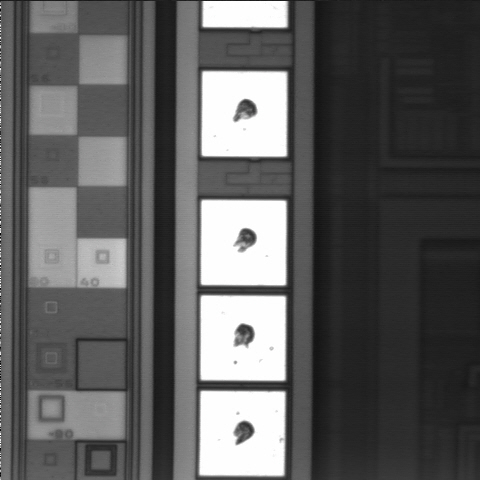pad: (202, 71, 287, 157), (201, 200, 286, 285), (201, 296, 286, 381), (200, 391, 285, 476)
